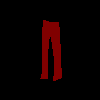pantaloni: (40, 20, 62, 81)
